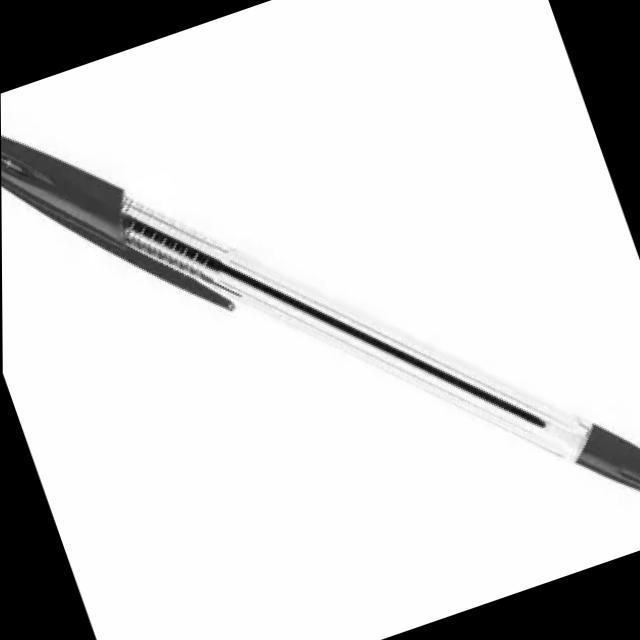pencil: (0, 133, 640, 488)
